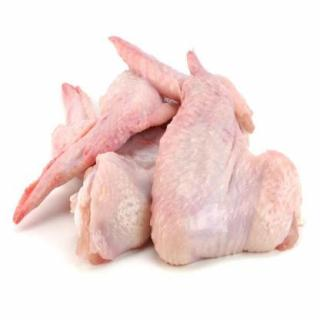Ayam: (16, 34, 304, 264), (111, 35, 304, 266)
